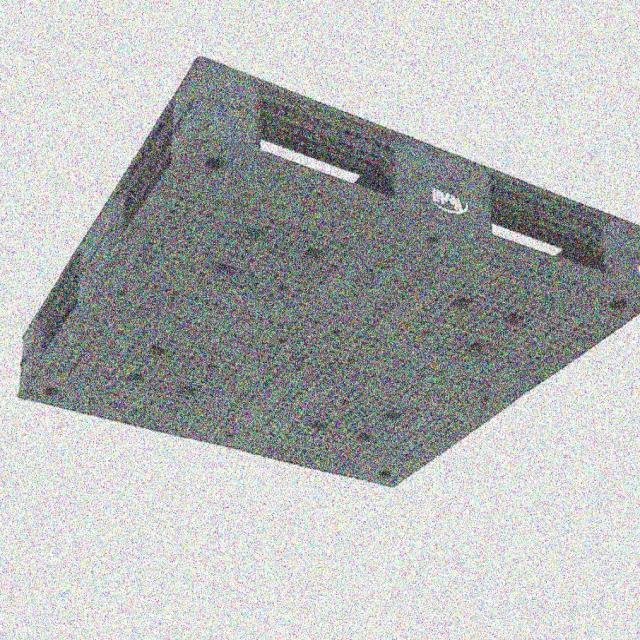non-igps: (13, 49, 640, 494)
